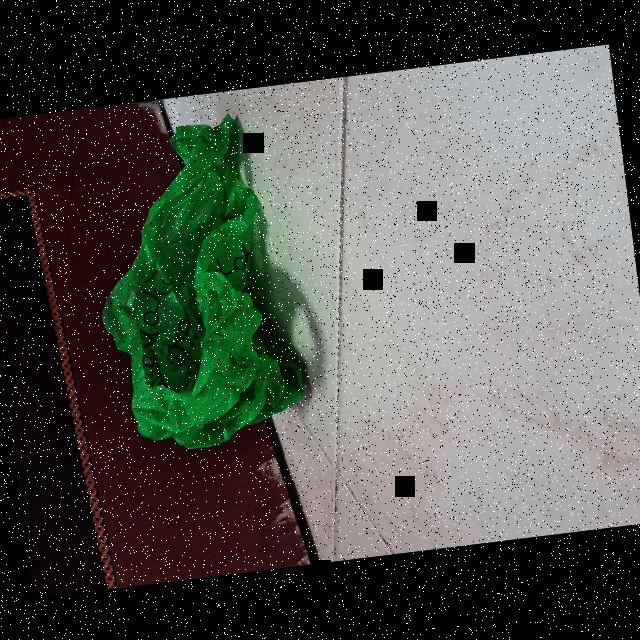plastic_bag: (85, 105, 318, 448)
